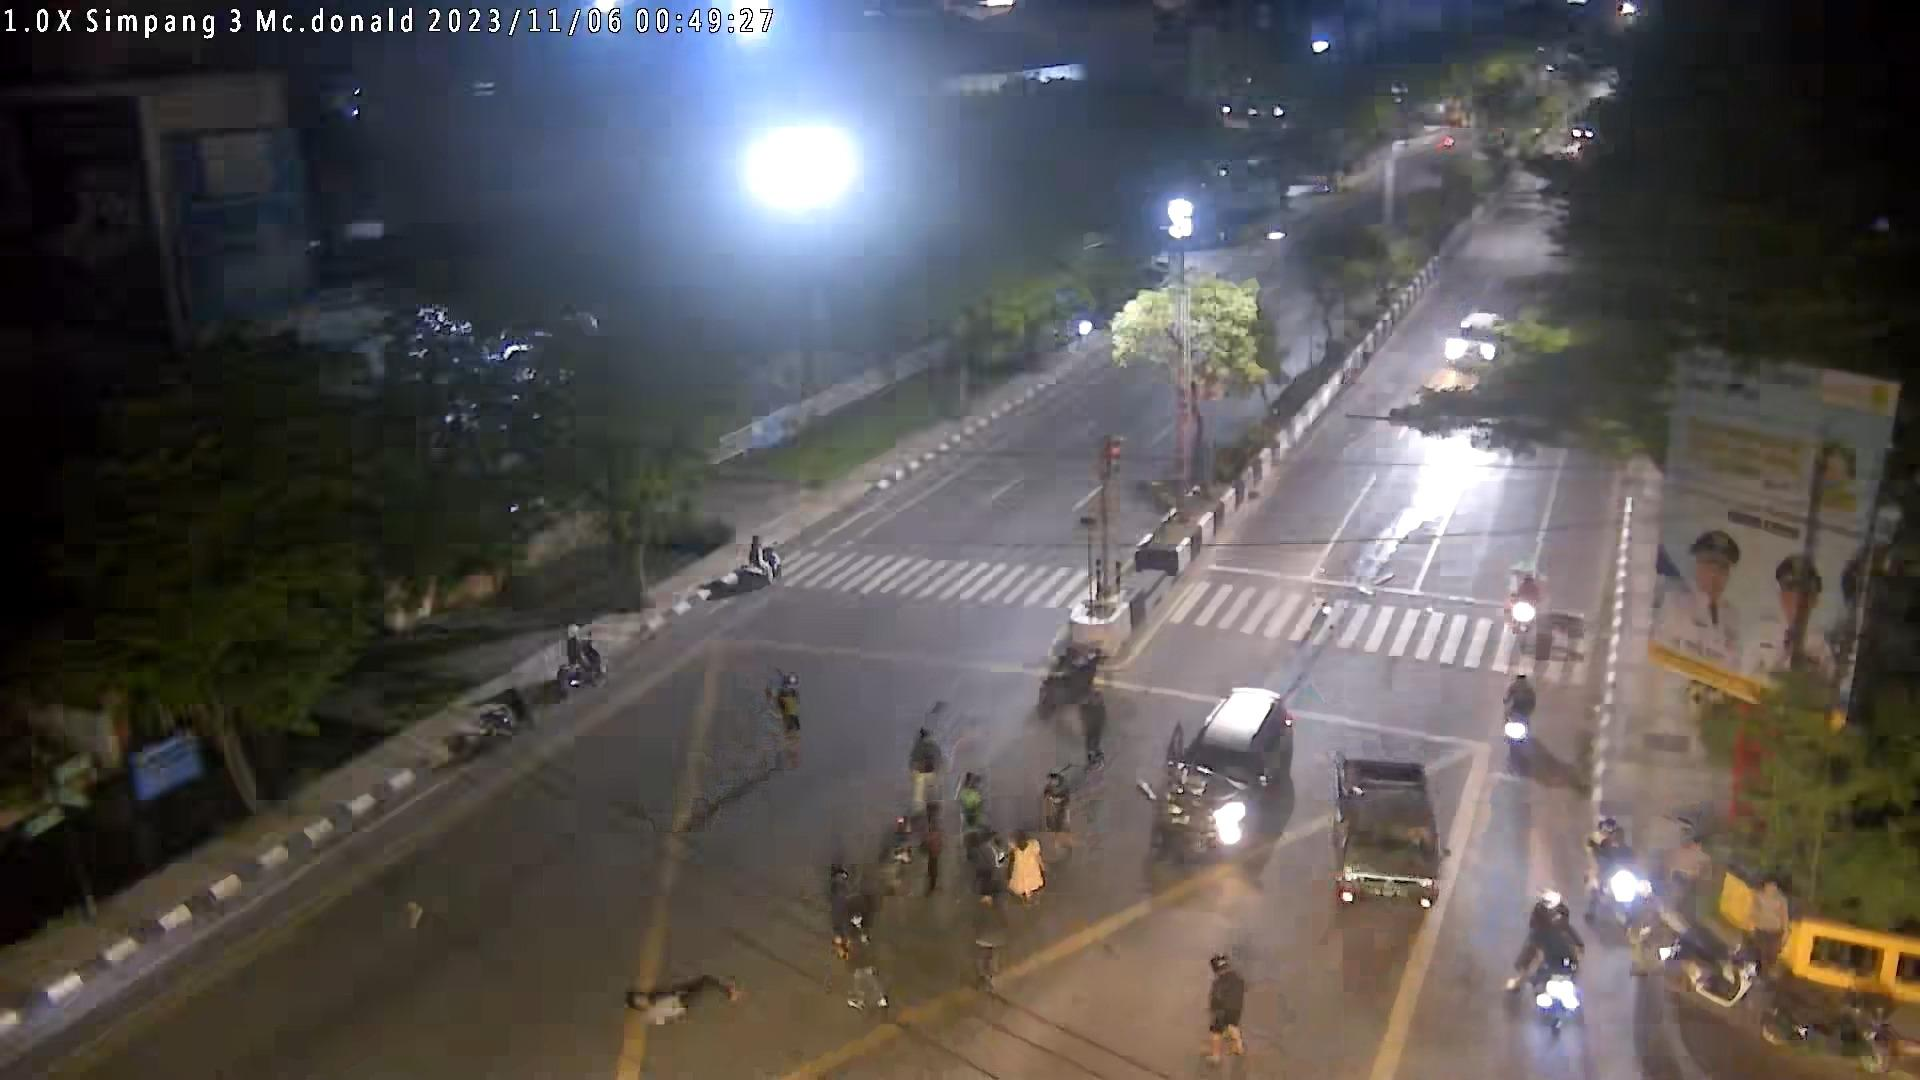accident: (624, 975, 741, 1023)
